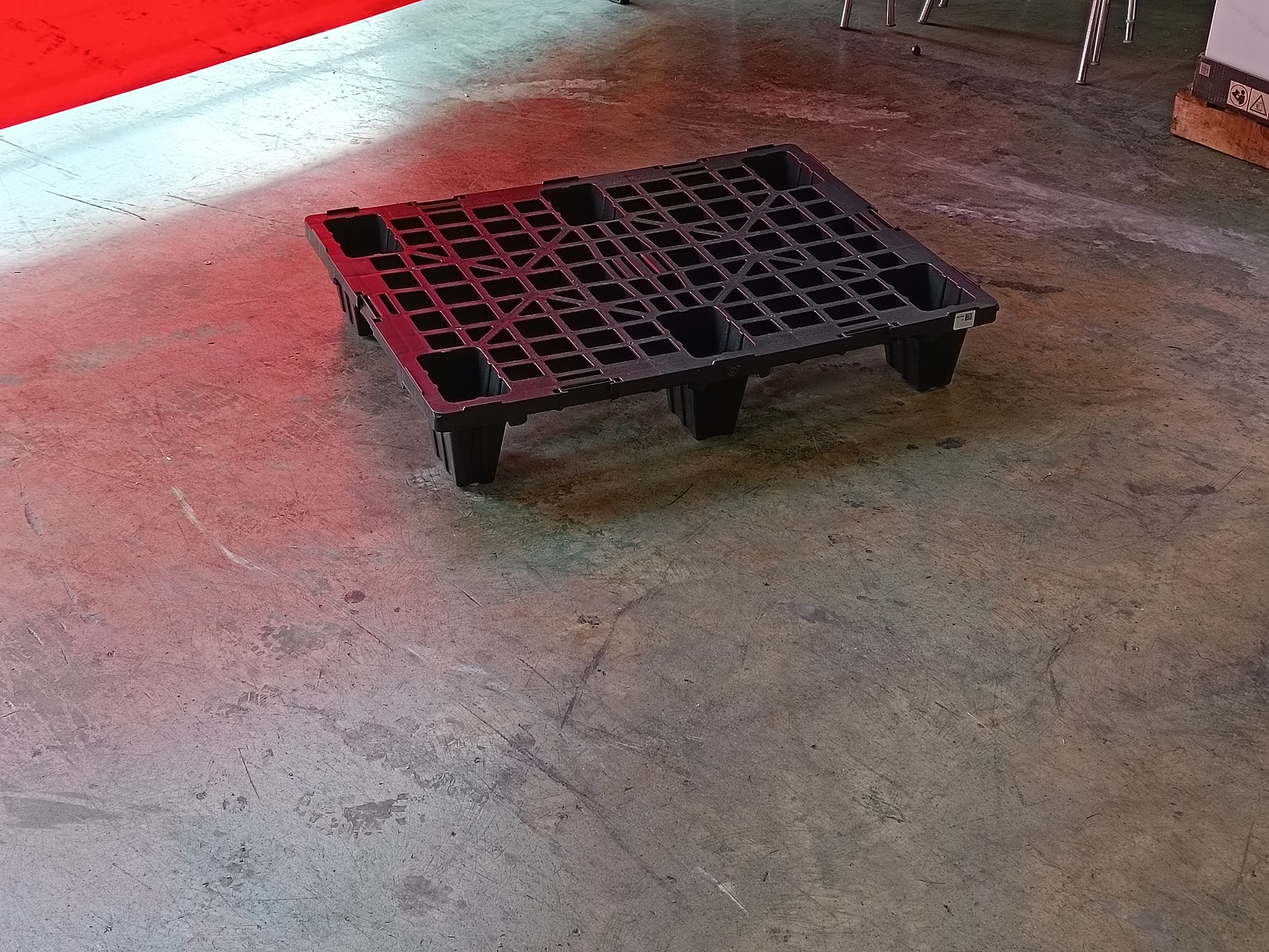block: (668, 367, 750, 443), (425, 410, 504, 487), (874, 325, 970, 384), (330, 280, 360, 332)
front: (440, 298, 1005, 492)
hole pallet: (741, 331, 942, 435), (495, 382, 694, 481)
